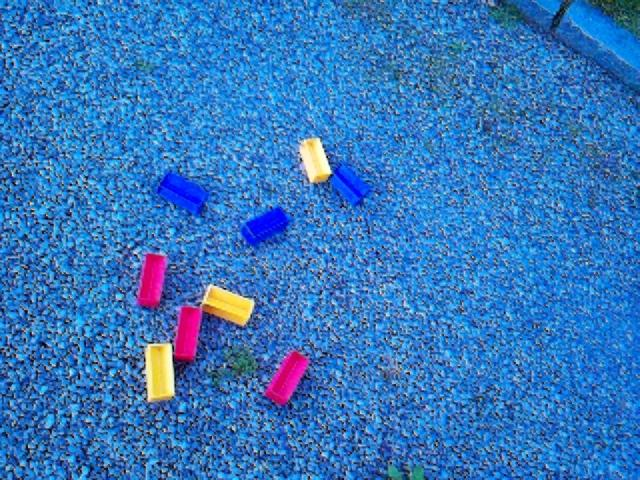blue: (157, 171, 208, 217), (241, 206, 290, 247), (330, 163, 373, 208)
red: (264, 350, 310, 407), (137, 253, 168, 309), (174, 305, 203, 363)
yellow: (201, 284, 255, 328), (145, 343, 176, 403), (299, 137, 333, 184)
